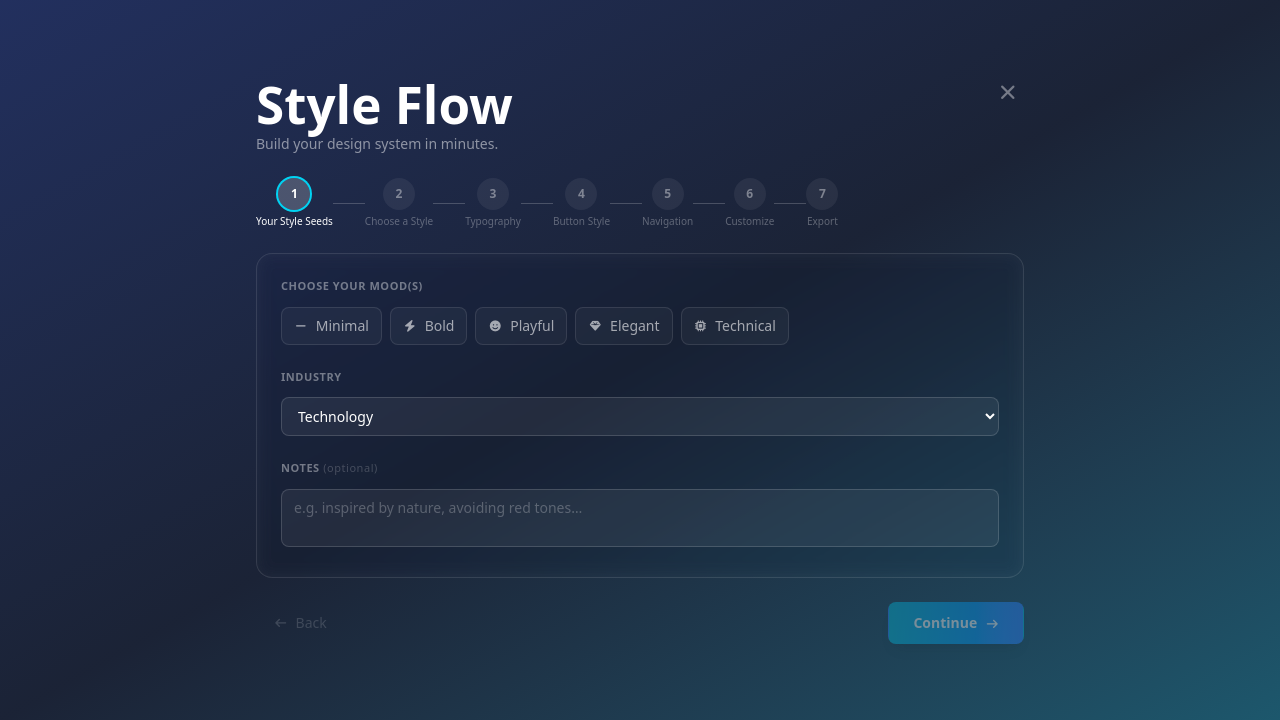
Scenario: StyleFlowShell › Continue button enables after selecting a mood
Click the button "Minimal" at [331, 326], box [281,307,382,345]
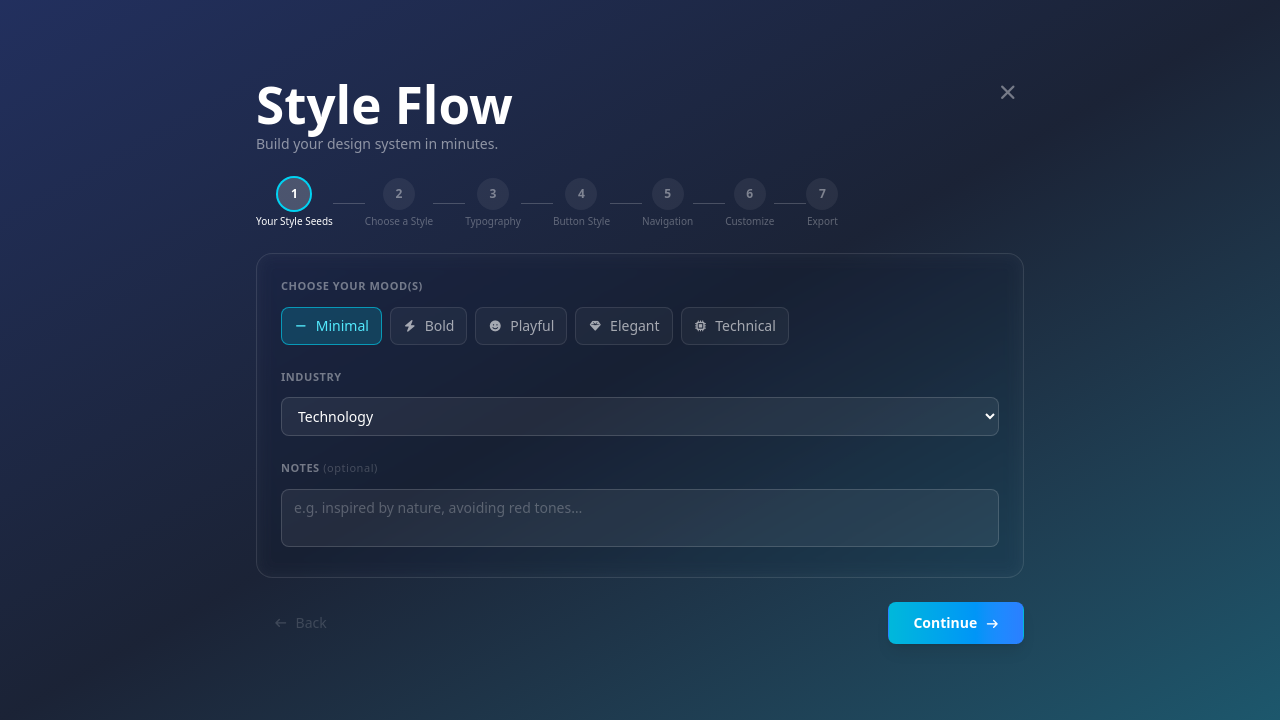
Result: the button "Continue" is enabled at [888,602,1024,644]
